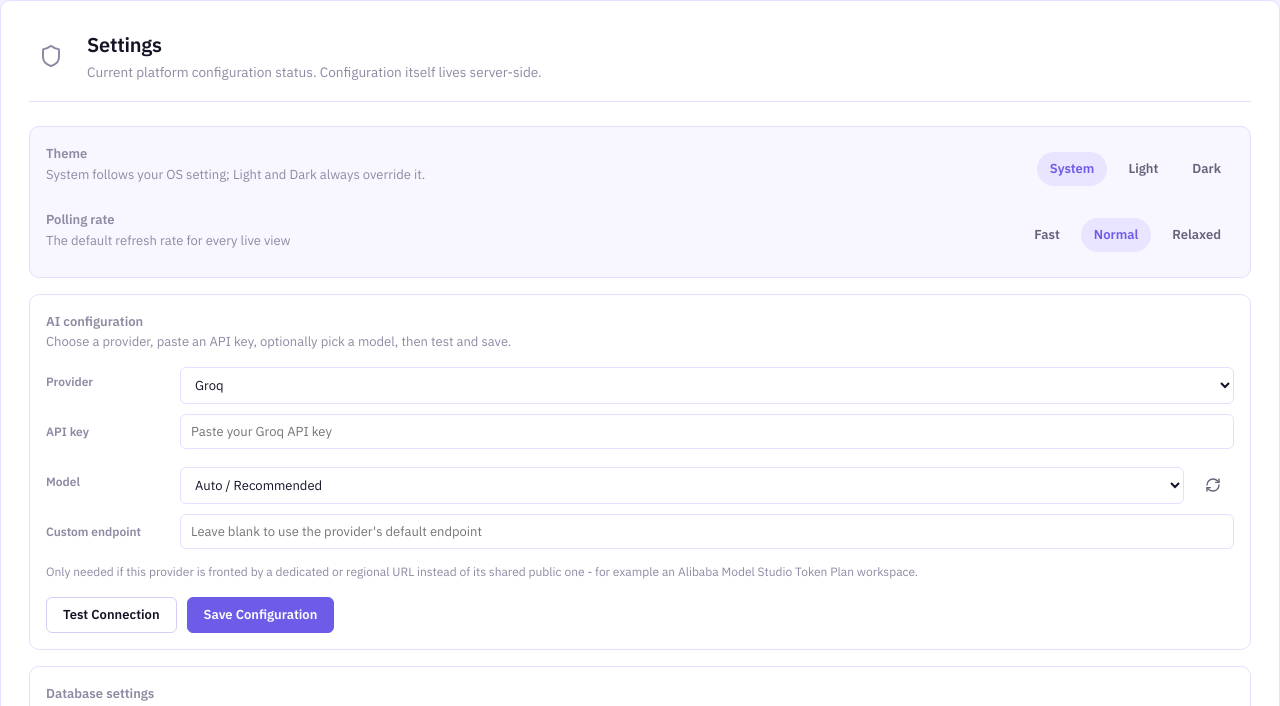
Test: SettingsPage > AI configuration › Save persists the configuration and clears the key field afterwards
In the password field labelled "API key": (707, 431) [180,414,1234,448], type "gsk_new_key"
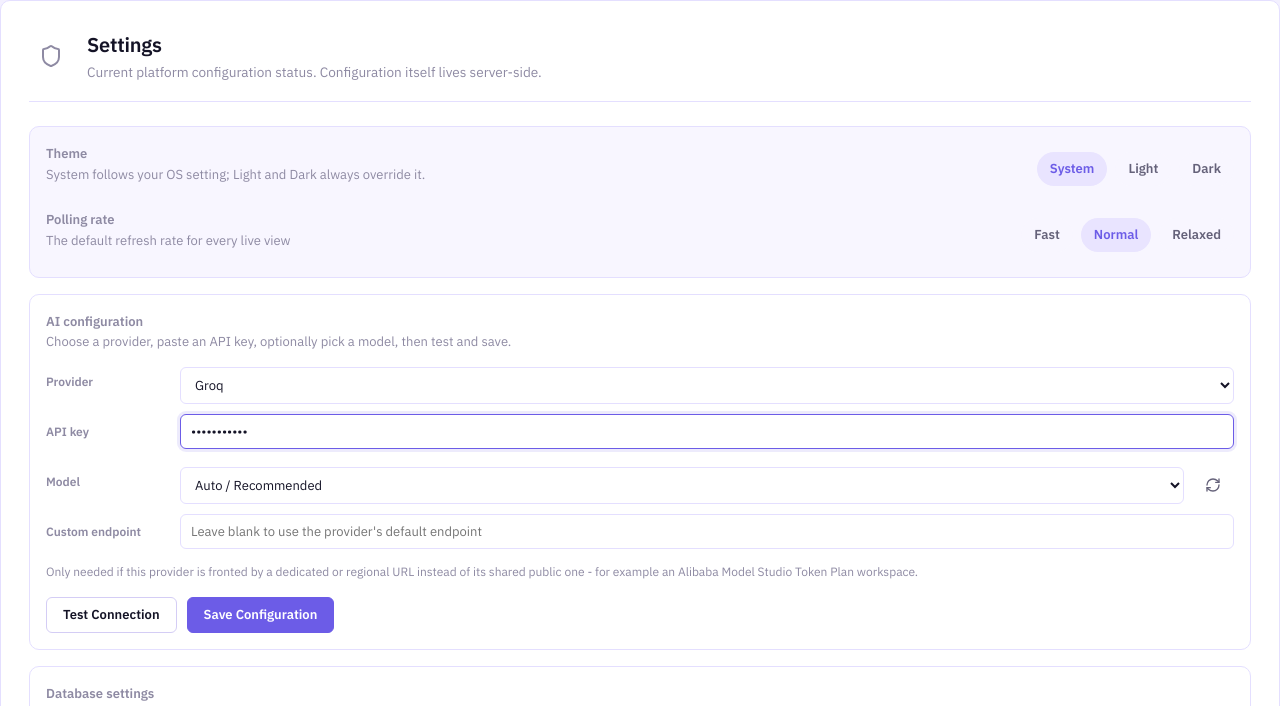
Click the button "Save Configuration": click(260, 615) [186,597,334,633]
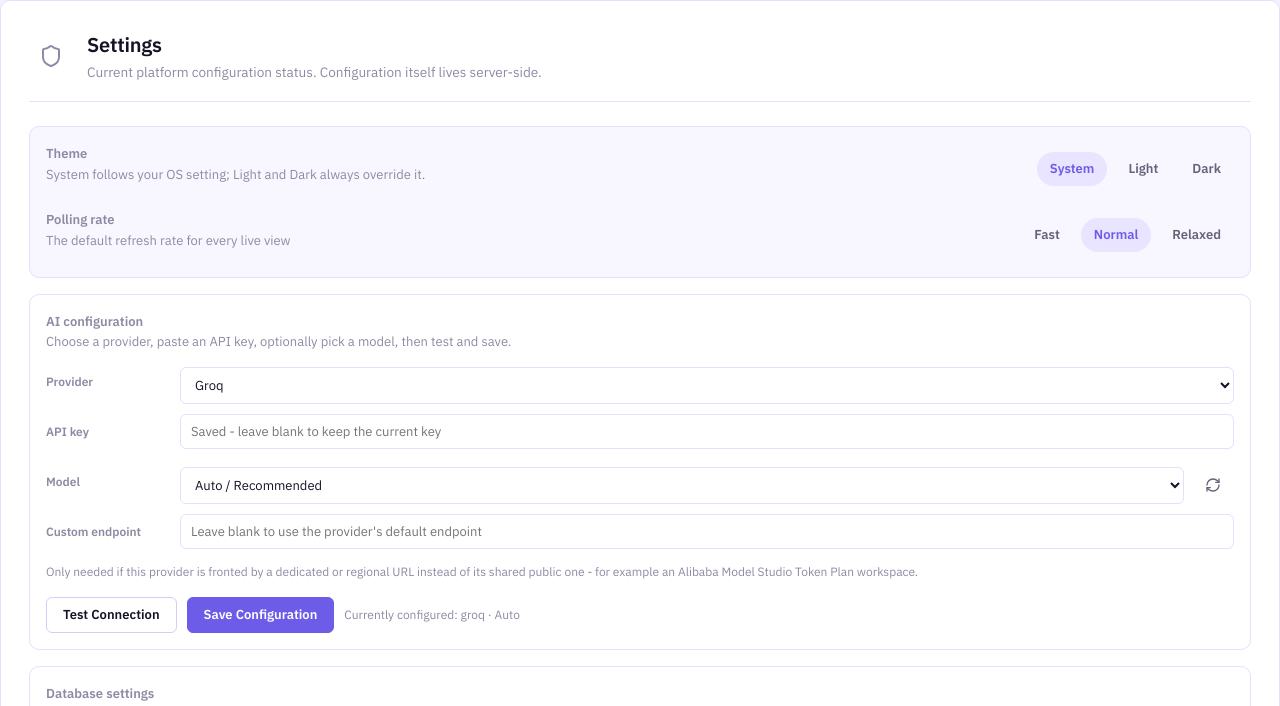
Now the password field labelled "API key" is empty, box [180,414,1234,448]
Now the text "Currently configured: groq · Auto" is shown, box [344,606,520,624]
